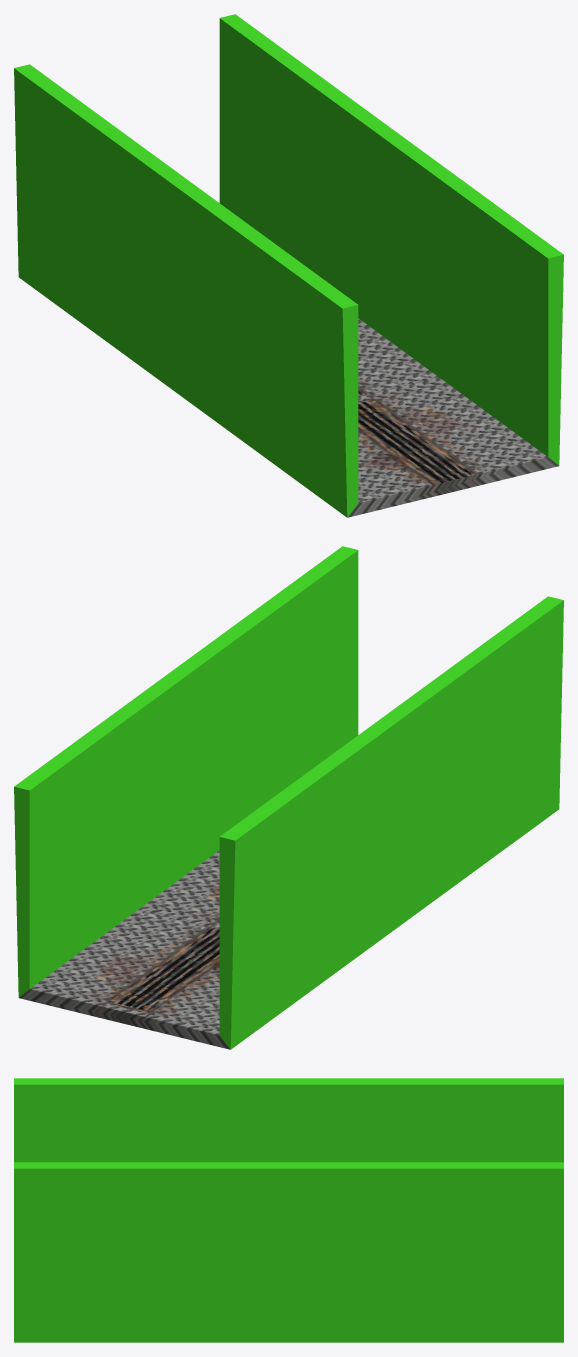
File: Corridor.001.fbx
The picture shows the model from 3 angles, top to bottom: view 1: azimuth 30°, elevation 25°; view 2: azimuth 150°, elevation 25°; view 3: azimuth 270°, elevation 25°; orthographic projection. The views are drawn at different scales.
Visible parts, largest first — view 1: Corridor.001; view 2: Corridor.001; view 3: Corridor.001.
Part boxes in pixels (left/top/right/bottom): Corridor.001: left=14, top=14, right=563, bottom=517; Corridor.001: left=14, top=546, right=563, bottom=1049; Corridor.001: left=14, top=1078, right=563, bottom=1342.
Size of the model in its own units: 700 by 635 by 1800.
